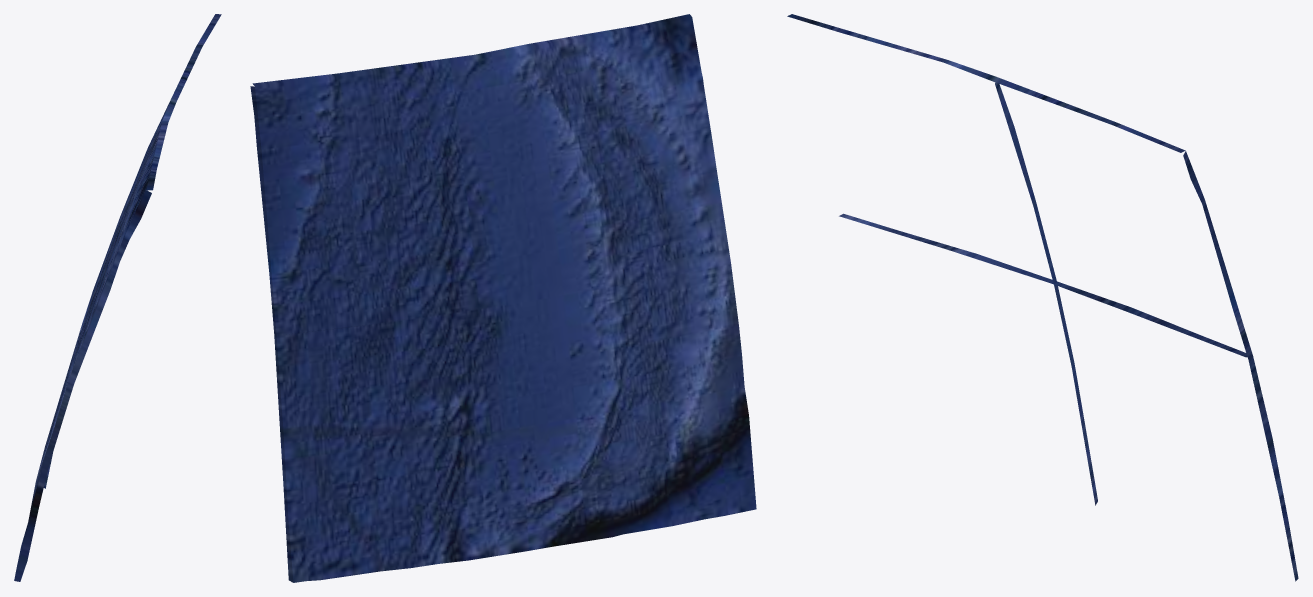
3 renders of one model, left to right at view 1: azimuth 30°, elevation 25°; view 2: azimuth 150°, elevation 25°; view 3: azimuth 270°, elevation 25°, orthographic. The views are drawn at different scales.
Bounding box in the file's own units: 1053060 × 1206867 × 1166689.
1 material, 1 textured.
